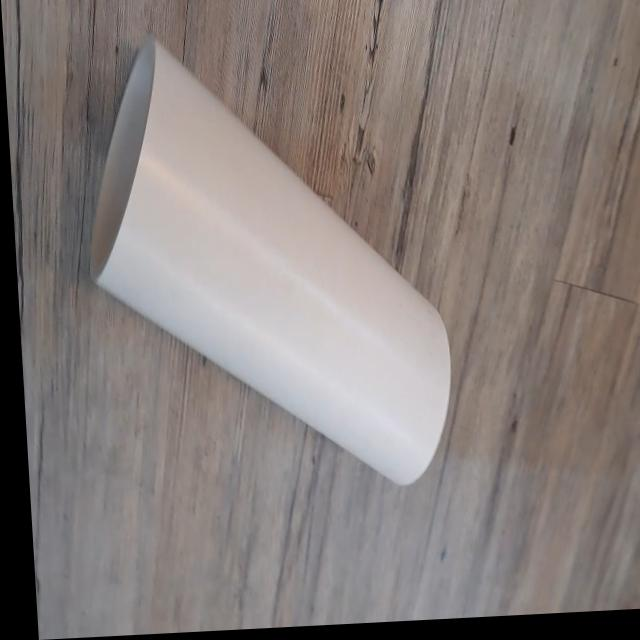CORAL: (71, 16, 465, 514)
